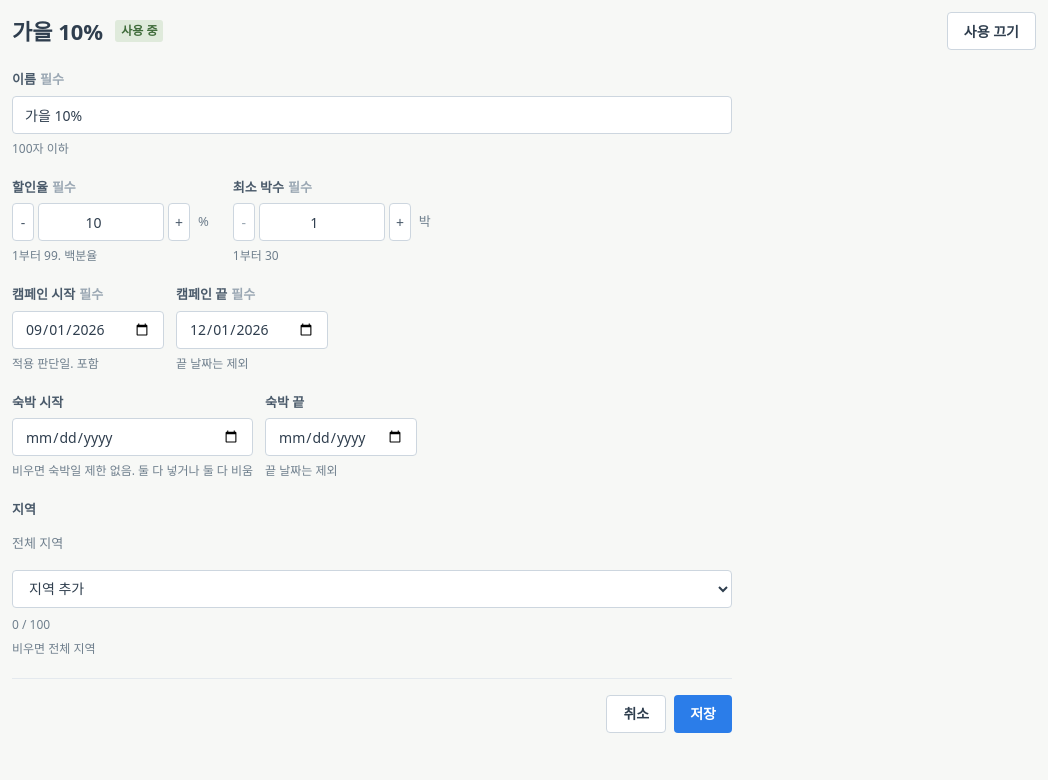
O2 수정 › 진입 시 PROMO-03을 읽고 저장은 PROMO-02에 version과 바뀐 필드만
The width and height of the screenshot is (1048, 780).
Check: the text "사용 중" is shown, box [115, 20, 164, 42]
Replace the text in the field labelled "이름" with "겨울 10%" at point(372, 114), box [12, 96, 732, 134]
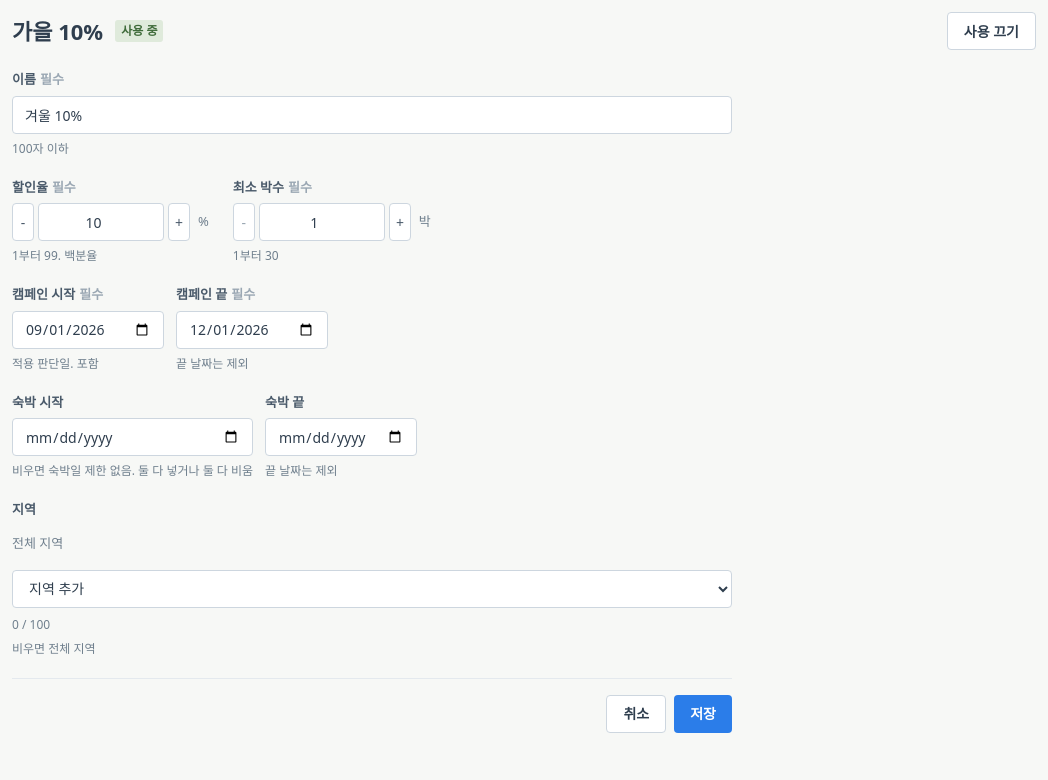
Click the button "저장" at point(703, 714), box [674, 694, 732, 732]
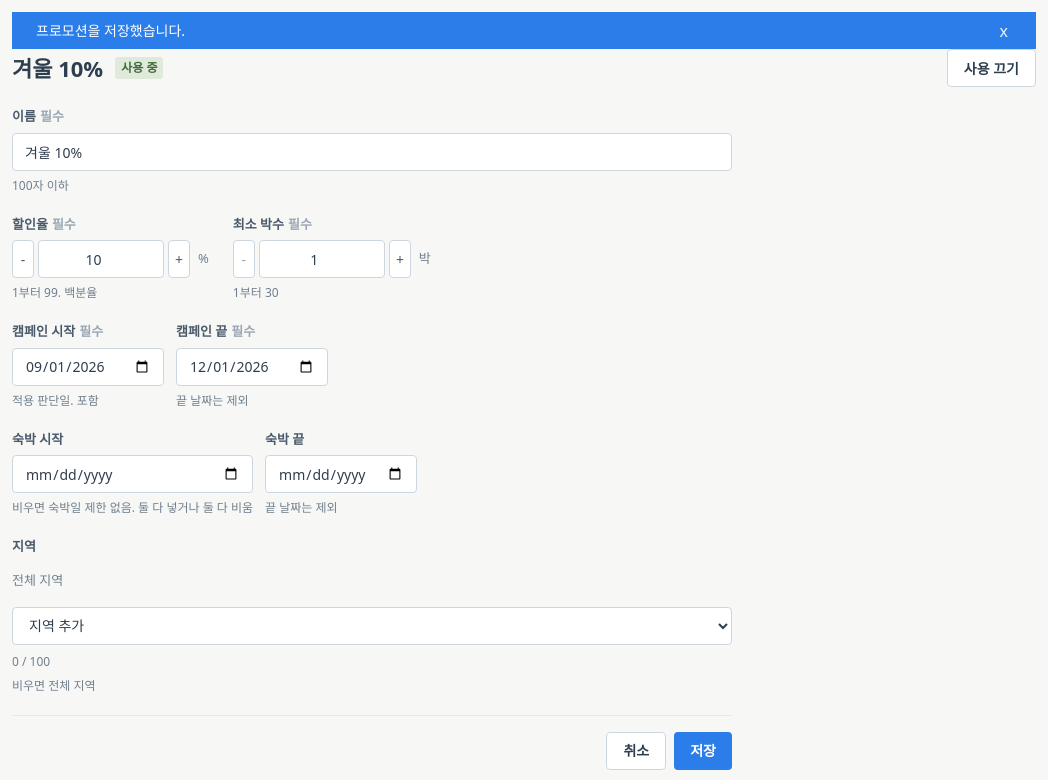
Check: the text "프로모션을 저장했습니다." is shown, box [36, 21, 185, 40]
